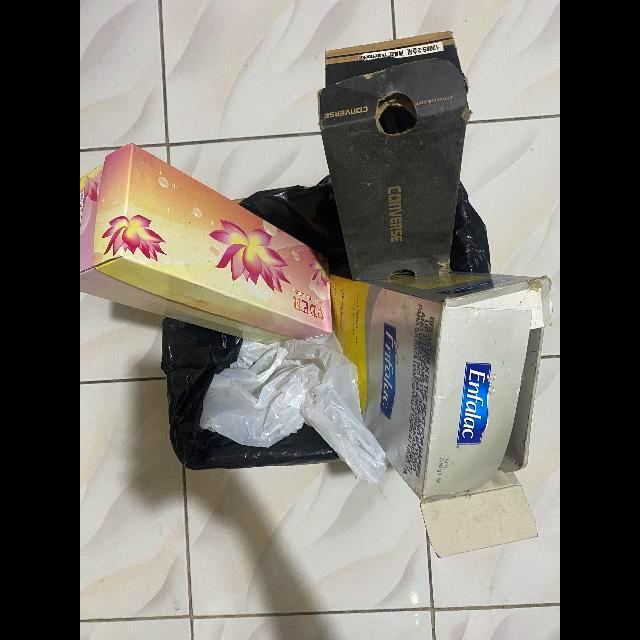cardboard: (332, 273, 553, 557), (80, 143, 331, 346), (318, 31, 470, 280)
plastic_bag: (199, 336, 386, 483)
